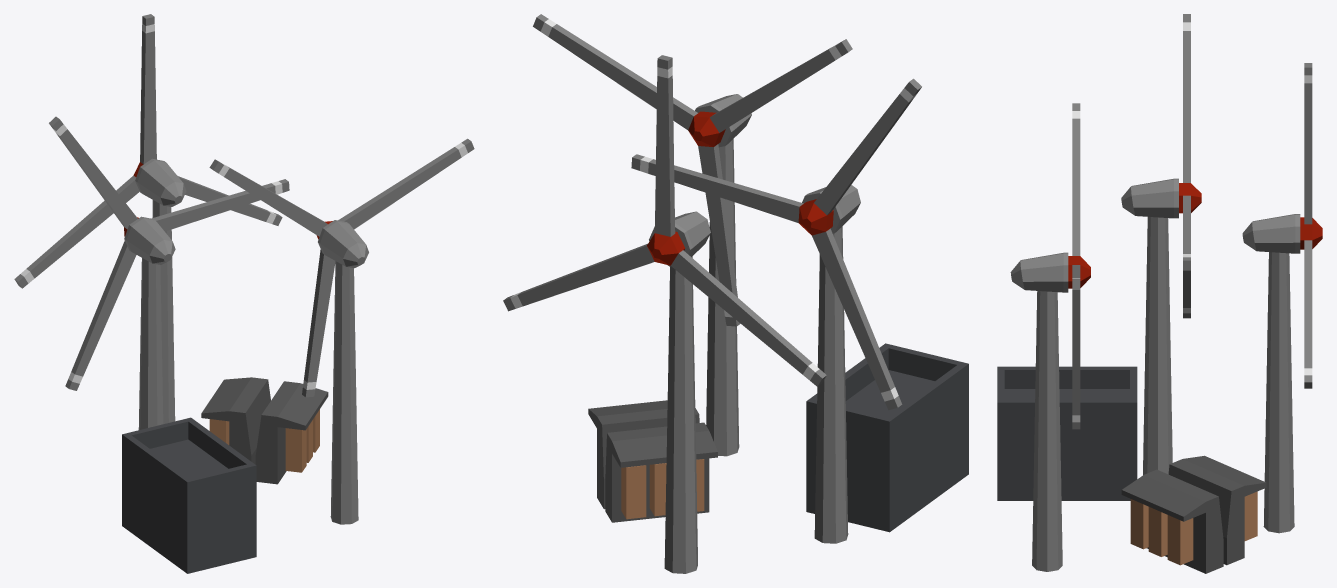
The model's file is Windmill.fbx.
The picture shows the model from 3 angles, left to right: view 1: azimuth 30°, elevation 25°; view 2: azimuth 150°, elevation 25°; view 3: azimuth 270°, elevation 25°; orthographic projection. The views are drawn at different scales.
Parts seen in each view (by area): view 1: base, wind)3, wind_2, wind_1; view 2: base, wind_1, wind_2, wind)3; view 3: base, wind)3, wind_1, wind_2.
Part boxes in pixels (bbox=[...]): base: bbox=[122, 158, 368, 573]; wind)3: bbox=[209, 138, 474, 397]; wind_2: bbox=[49, 116, 289, 390]; wind_1: bbox=[14, 14, 282, 288]; base: bbox=[588, 94, 968, 573]; wind_1: bbox=[503, 55, 826, 386]; wind_2: bbox=[631, 78, 921, 410]; wind)3: bbox=[533, 14, 852, 326]; base: bbox=[997, 178, 1300, 573]; wind)3: bbox=[1068, 103, 1090, 429]; wind_1: bbox=[1300, 63, 1322, 388]; wind_2: bbox=[1179, 14, 1201, 318].
Size of the model in its own units: 551 by 613 by 392.
